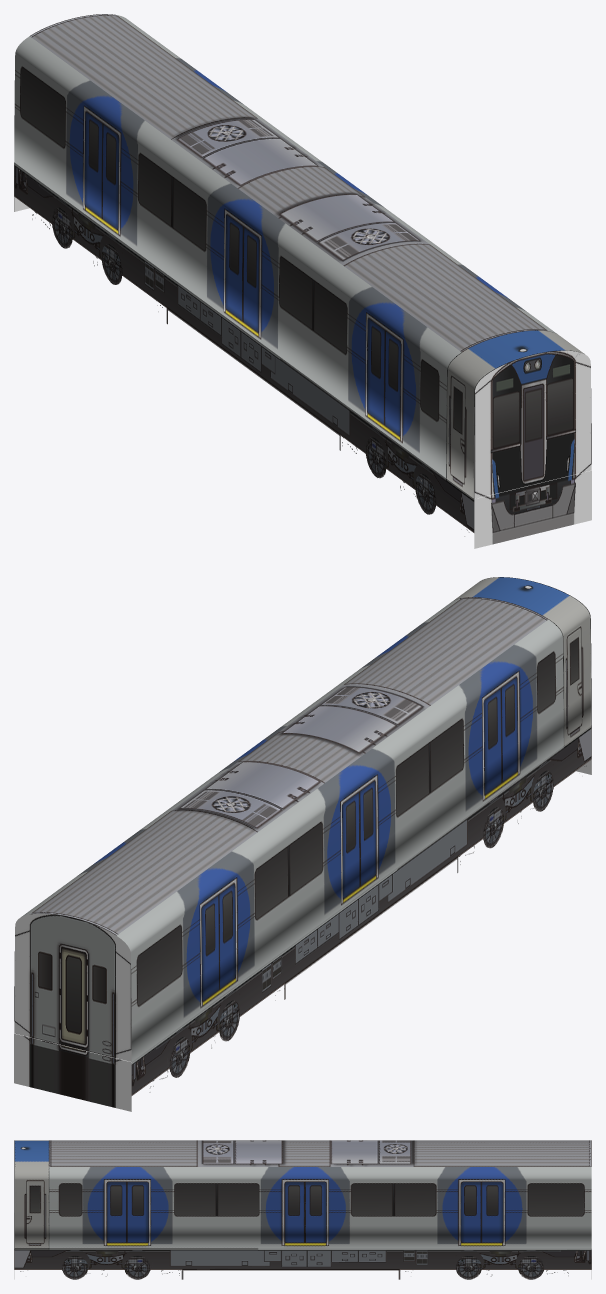
The model's file is car1.glb.
3 renders of one model, top to bottom at view 1: azimuth 30°, elevation 25°; view 2: azimuth 150°, elevation 25°; view 3: azimuth 270°, elevation 25°, orthographic. The views are drawn at different scales.
Parts seen in each view (by area): view 1: hansin-5700-car1; view 2: hansin-5700-car1; view 3: hansin-5700-car1.
Part boxes in pixels (x1,y1,x2,y2): hansin-5700-car1: [14, 14, 591, 548]; hansin-5700-car1: [14, 577, 591, 1111]; hansin-5700-car1: [14, 1140, 591, 1279].
Bounding box in the file's own units: 2.8 × 4.09 × 19.01.
Materials: 9 (8 with a texture image).
